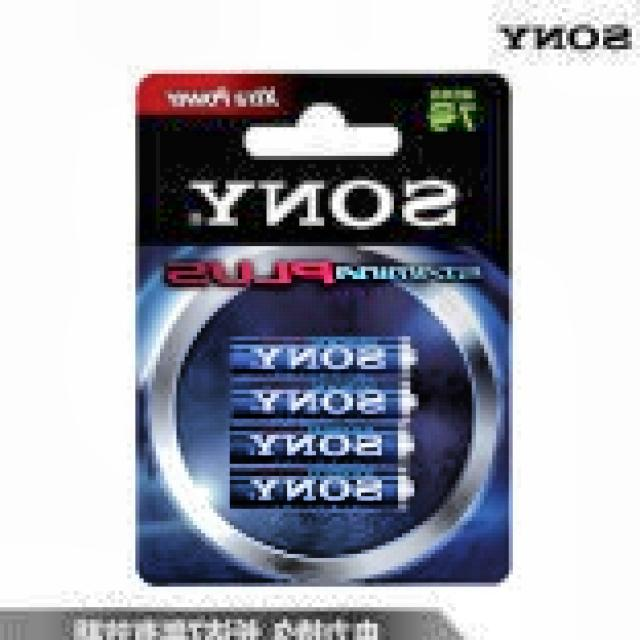Non-Valuable Waste - Batteries: (231, 336, 415, 508)
